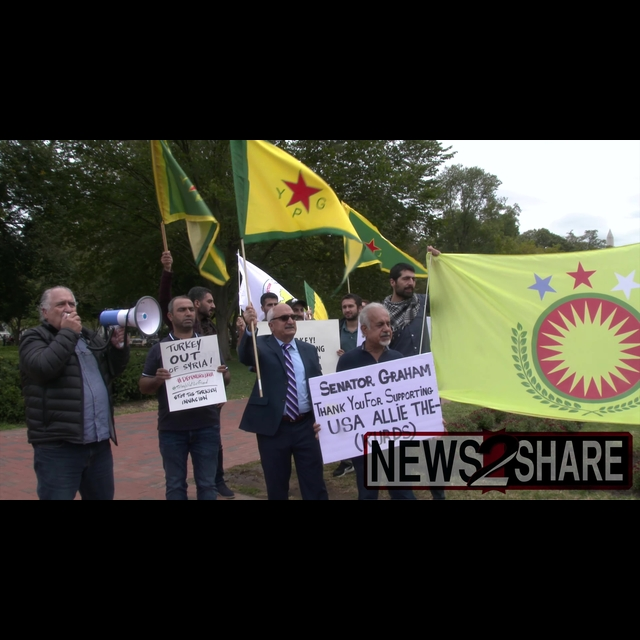YPG: (228, 140, 348, 235)
YPJ: (146, 139, 231, 286), (341, 197, 430, 279)
